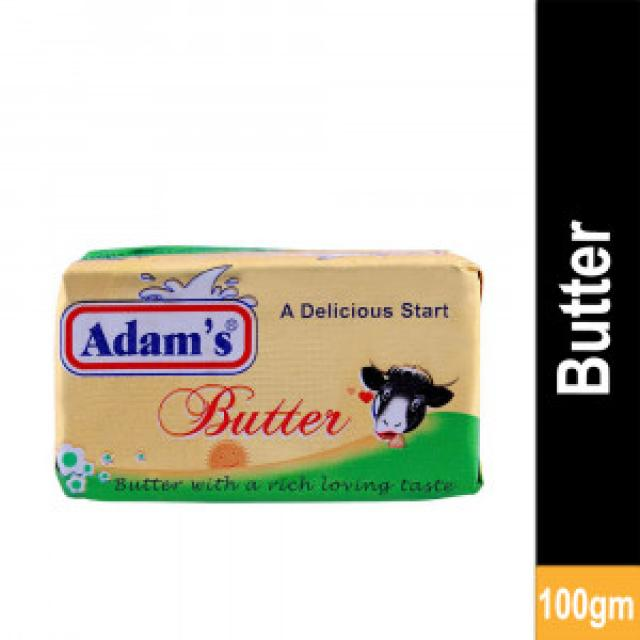butter: (53, 243, 482, 504)
